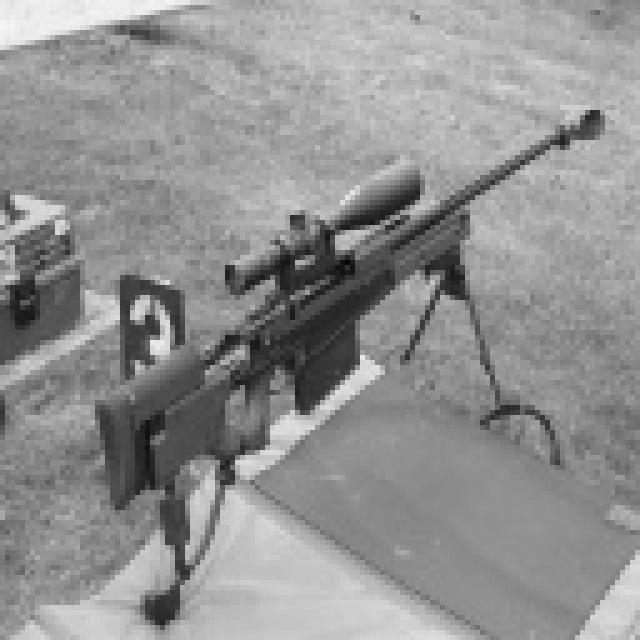Rifle: (18, 97, 632, 630)
